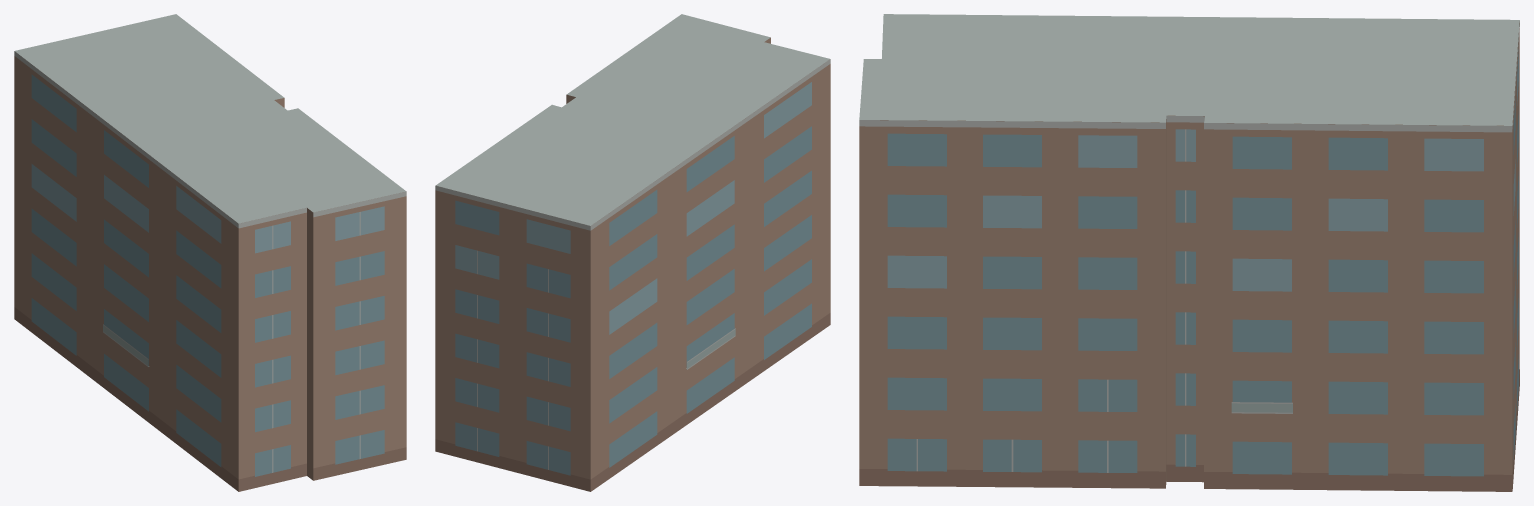
The model's file is survey-upis-33035959.glb.
3 renders of one model, left to right at view 1: azimuth 30°, elevation 25°; view 2: azimuth 150°, elevation 25°; view 3: azimuth 270°, elevation 25°, orthographic. The views are drawn at different scales.
Parts seen in each view (by area): view 1: survey-upis-33035959.tmp; view 2: survey-upis-33035959.tmp; view 3: survey-upis-33035959.tmp.
Boxes of the visible parts, x1,y1,x2,y2 form: survey-upis-33035959.tmp: (14, 14, 406, 491); survey-upis-33035959.tmp: (435, 14, 830, 491); survey-upis-33035959.tmp: (859, 14, 1519, 491).
Size of the model in its own units: 8.92 by 13.6 by 22.25.
